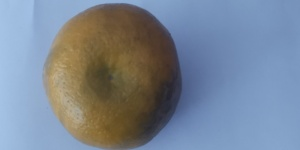BAD: (42, 2, 186, 150)
